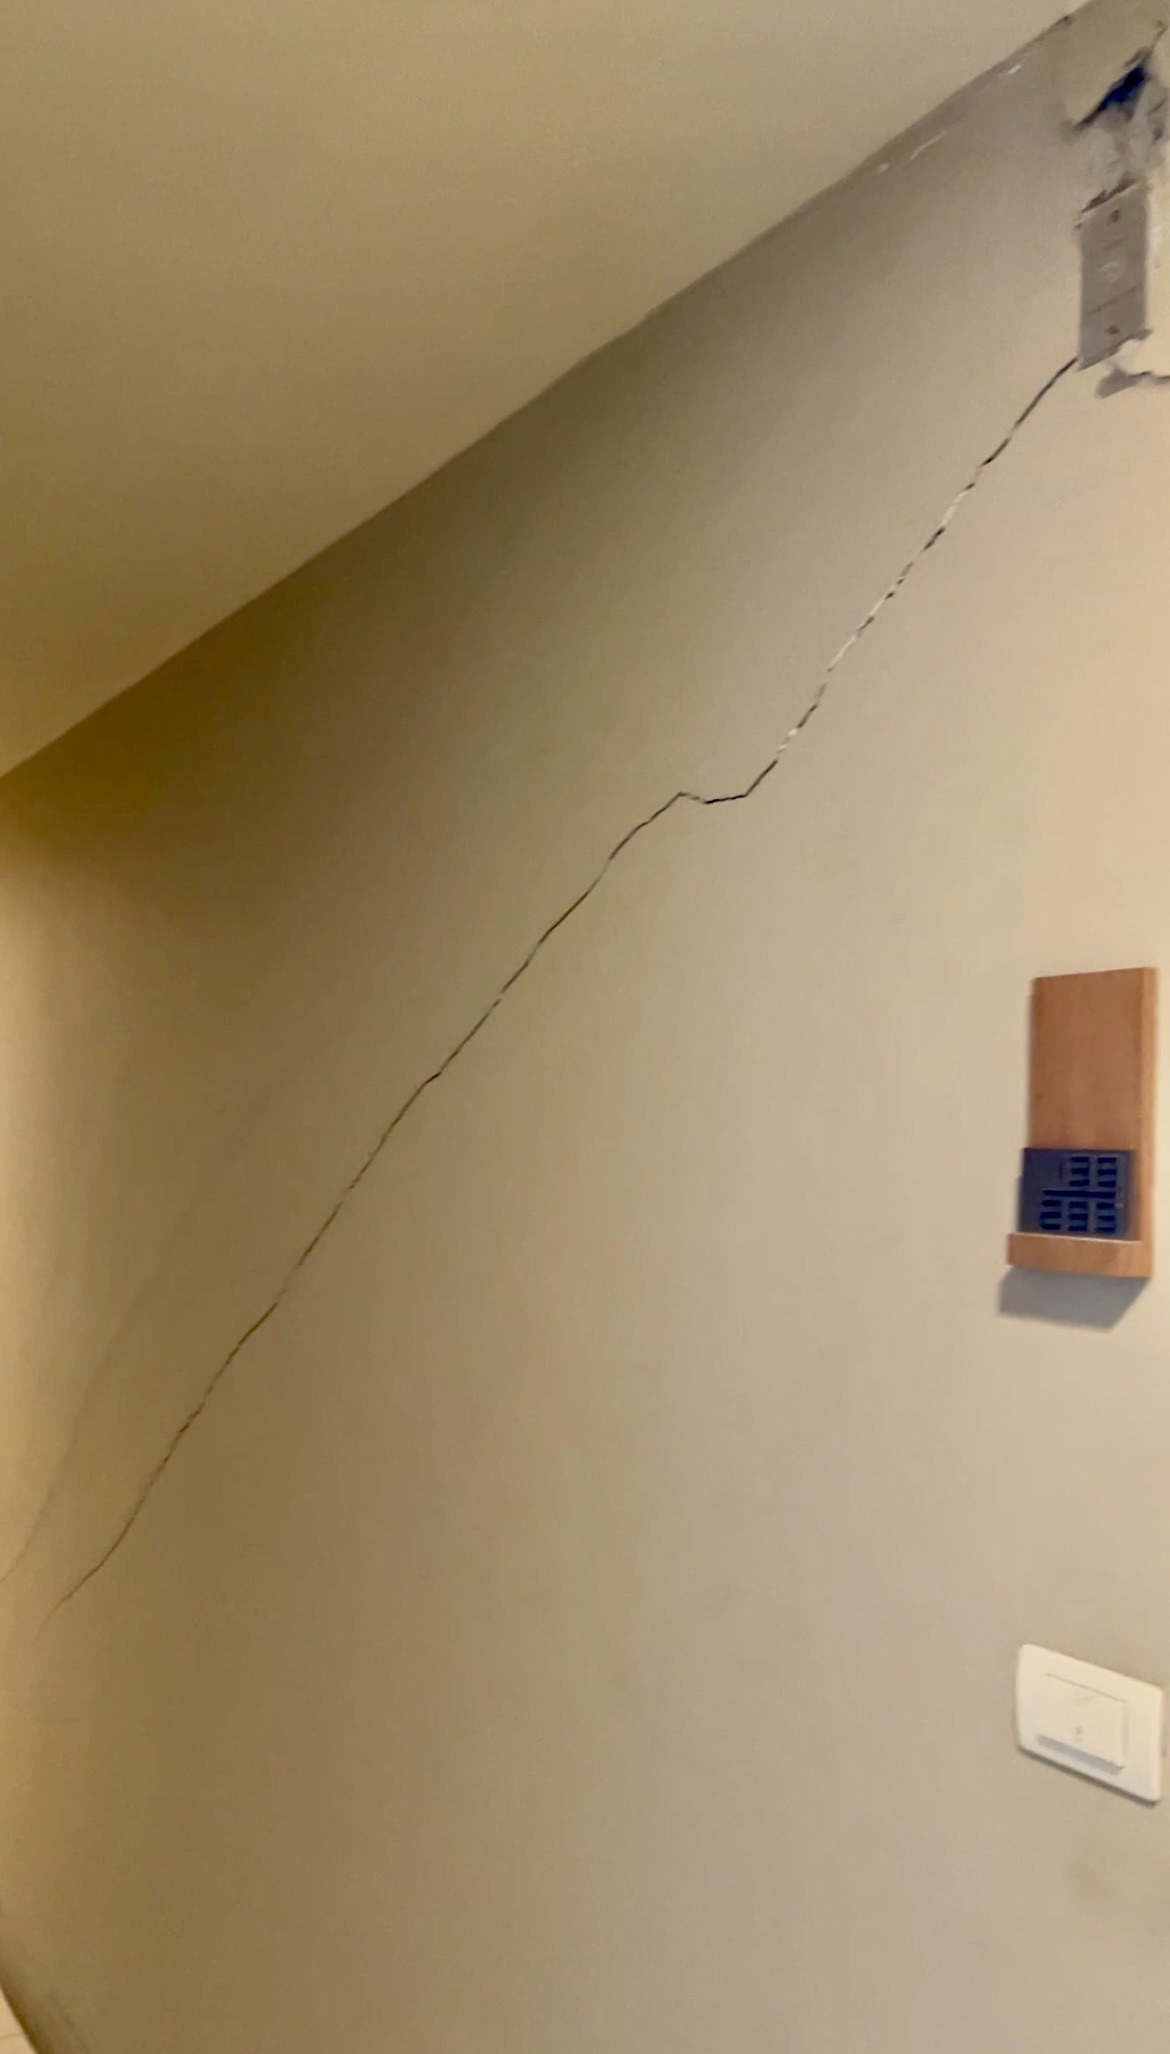Low: (23, 293, 1138, 1632)
